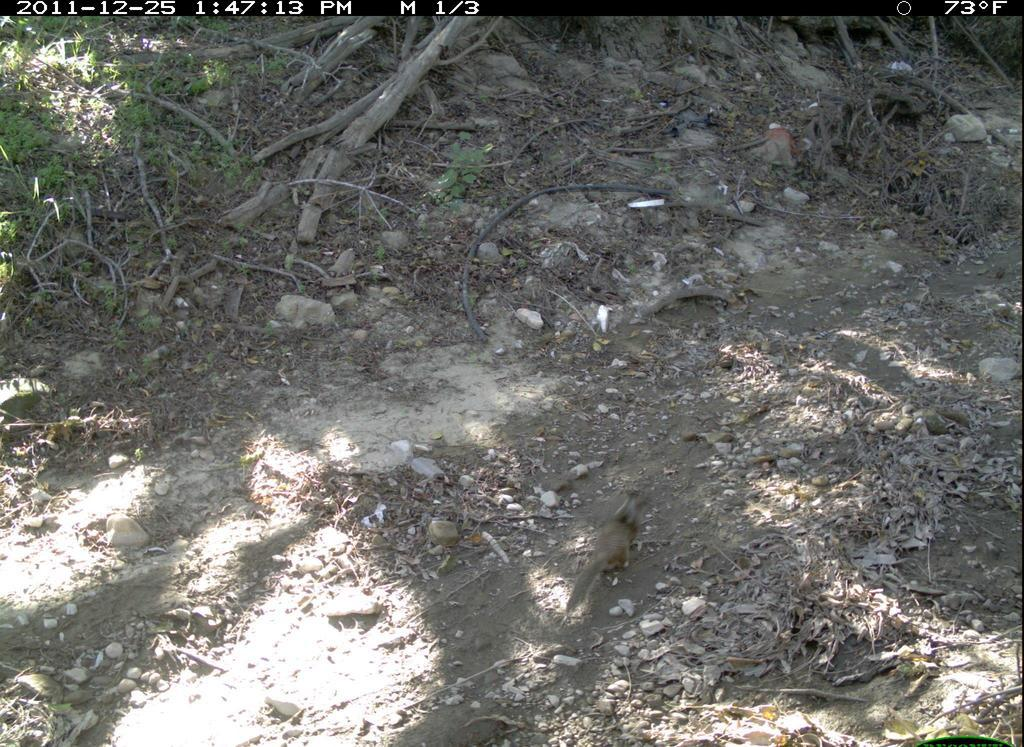squirrel: (566, 489, 654, 611)
